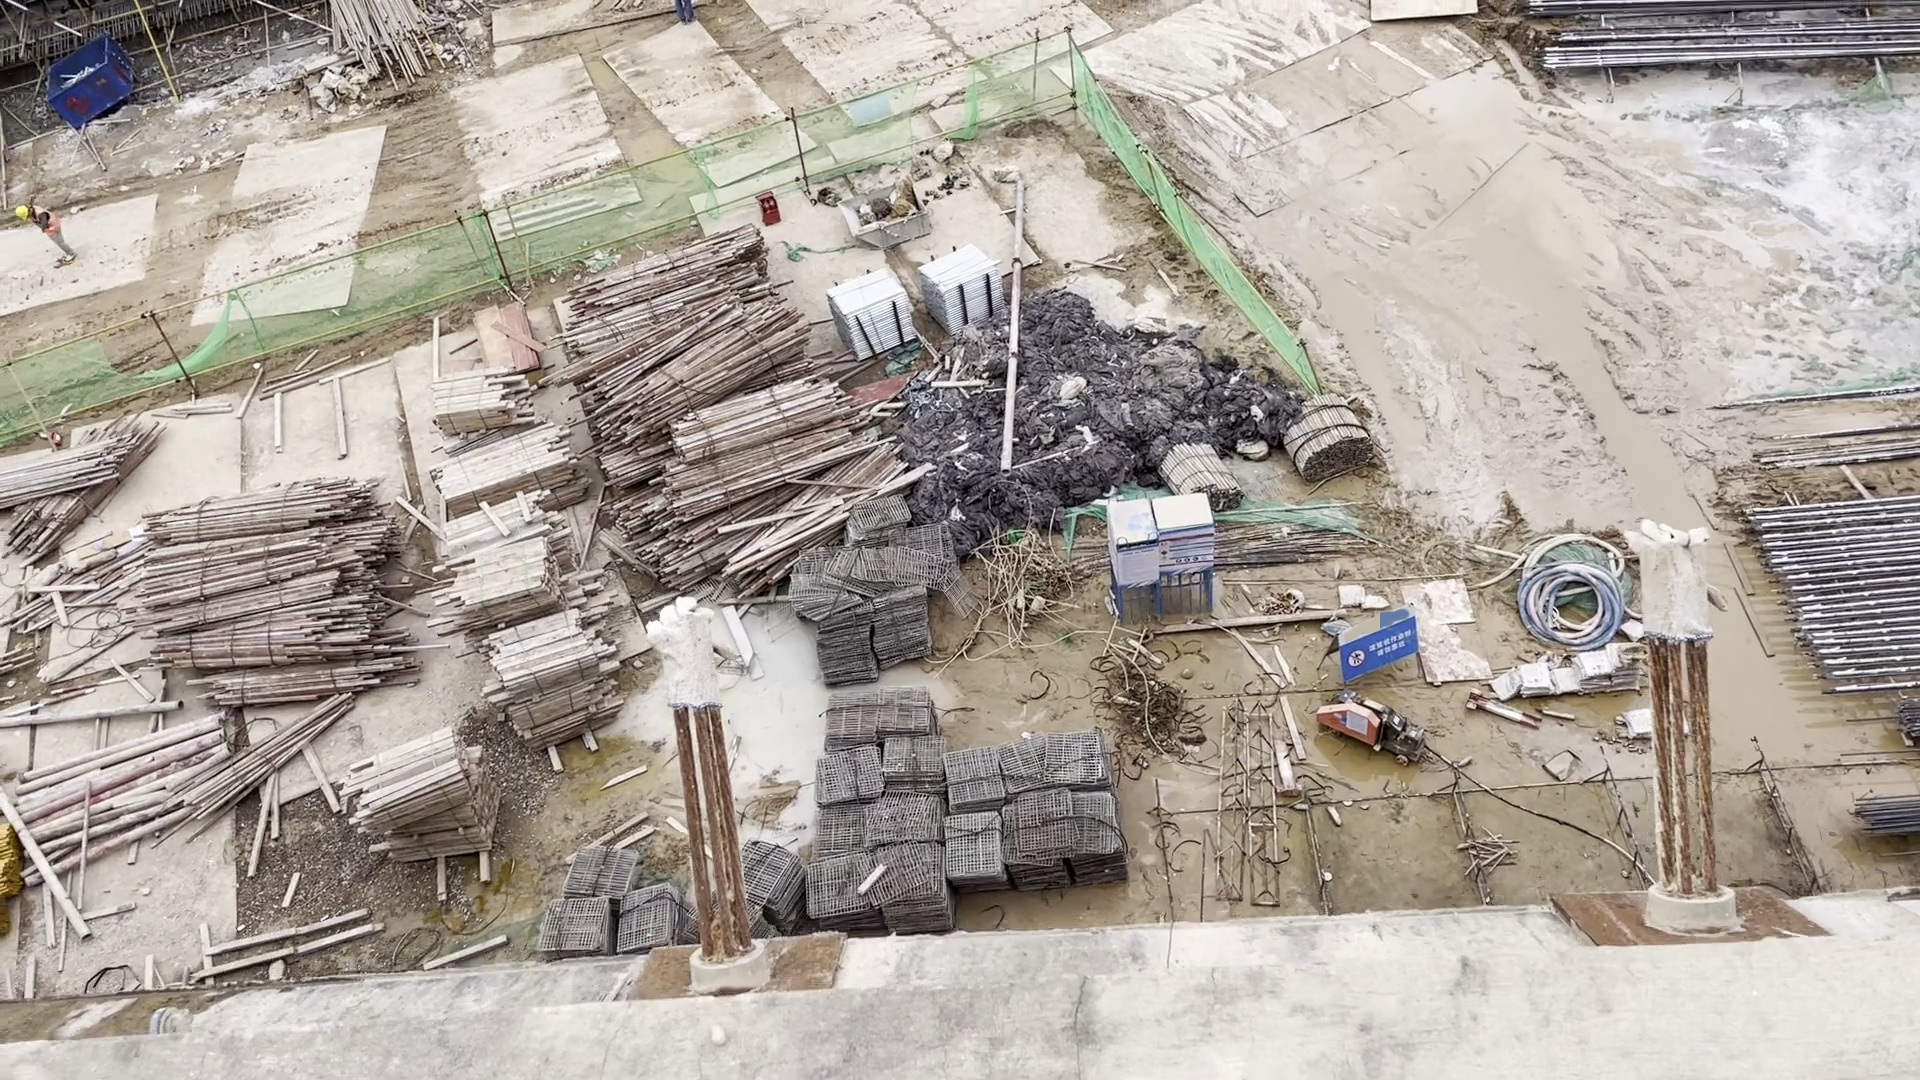hopper: (46, 32, 136, 133)
wood: (430, 488, 603, 621), (345, 724, 502, 862), (475, 608, 625, 746), (430, 421, 589, 510), (426, 361, 541, 430)
